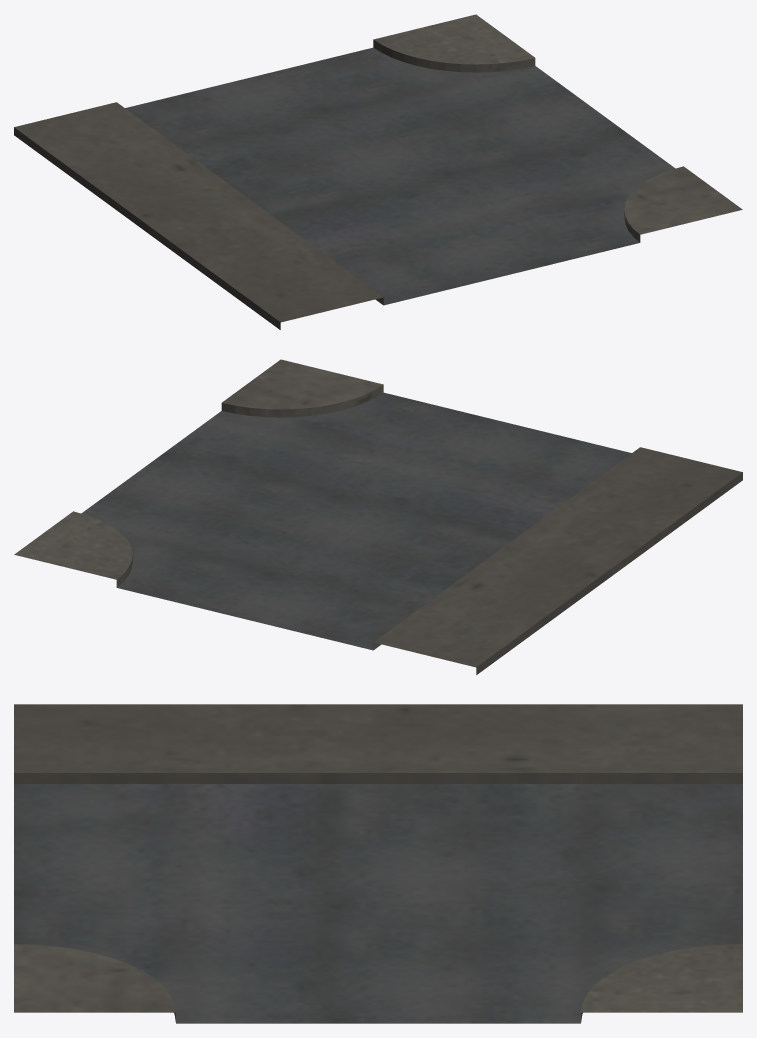
The model's file is roadTCrossroads.fbx.
3 renders of one model, top to bottom at view 1: azimuth 30°, elevation 25°; view 2: azimuth 150°, elevation 25°; view 3: azimuth 270°, elevation 25°, orthographic. The views are drawn at different scales.
Parts seen in each view (by area): view 1: roadTCrossroads; view 2: roadTCrossroads; view 3: roadTCrossroads.
Part boxes in pixels (x1=…): roadTCrossroads: x1=14, y1=14, x2=742, y2=329; roadTCrossroads: x1=14, y1=359, x2=742, y2=674; roadTCrossroads: x1=14, y1=704, x2=742, y2=1023.
Size of the model in its own units: 900 by 15 by 900.
